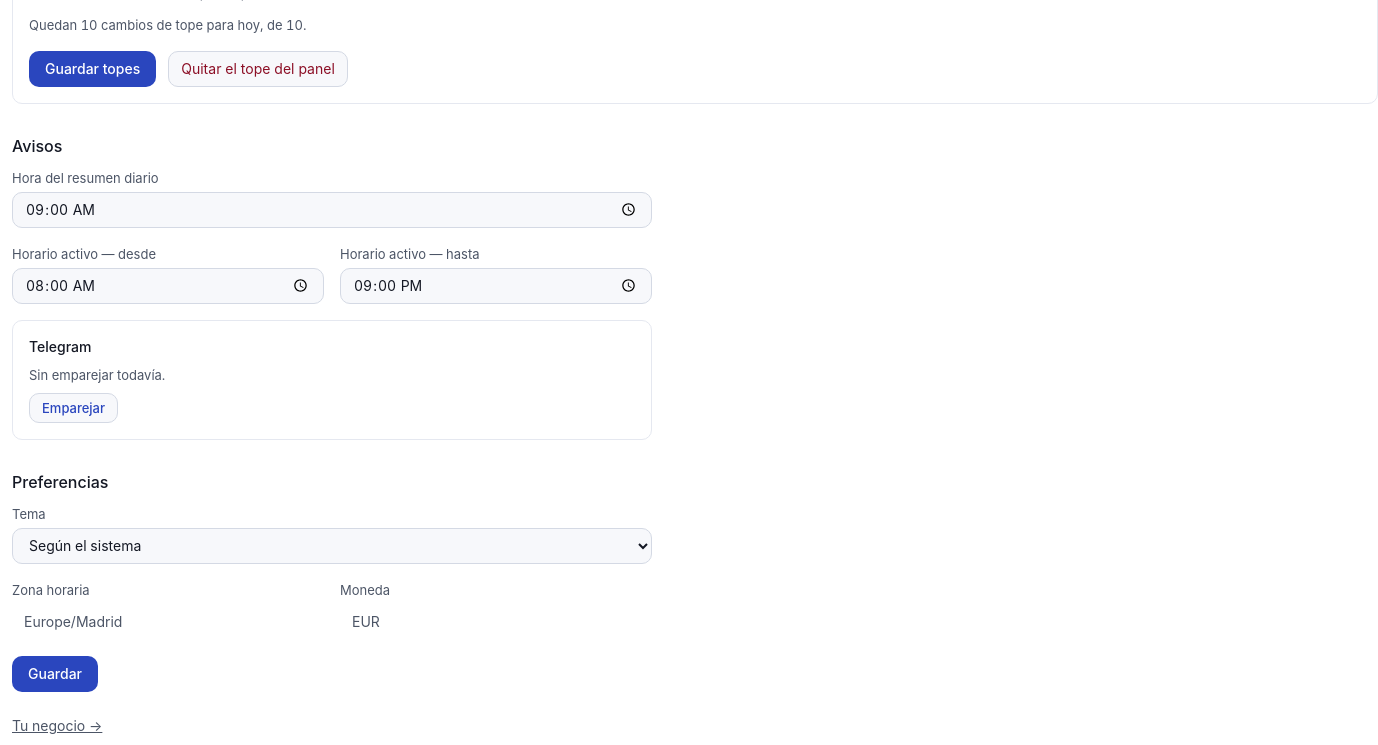
AjustesPage › guarda los cambios de tema
(page scrolled)
Select "Oscuro" in the dropdown labelled "Tema". click: (332, 546)
box: [12,528,652,564]
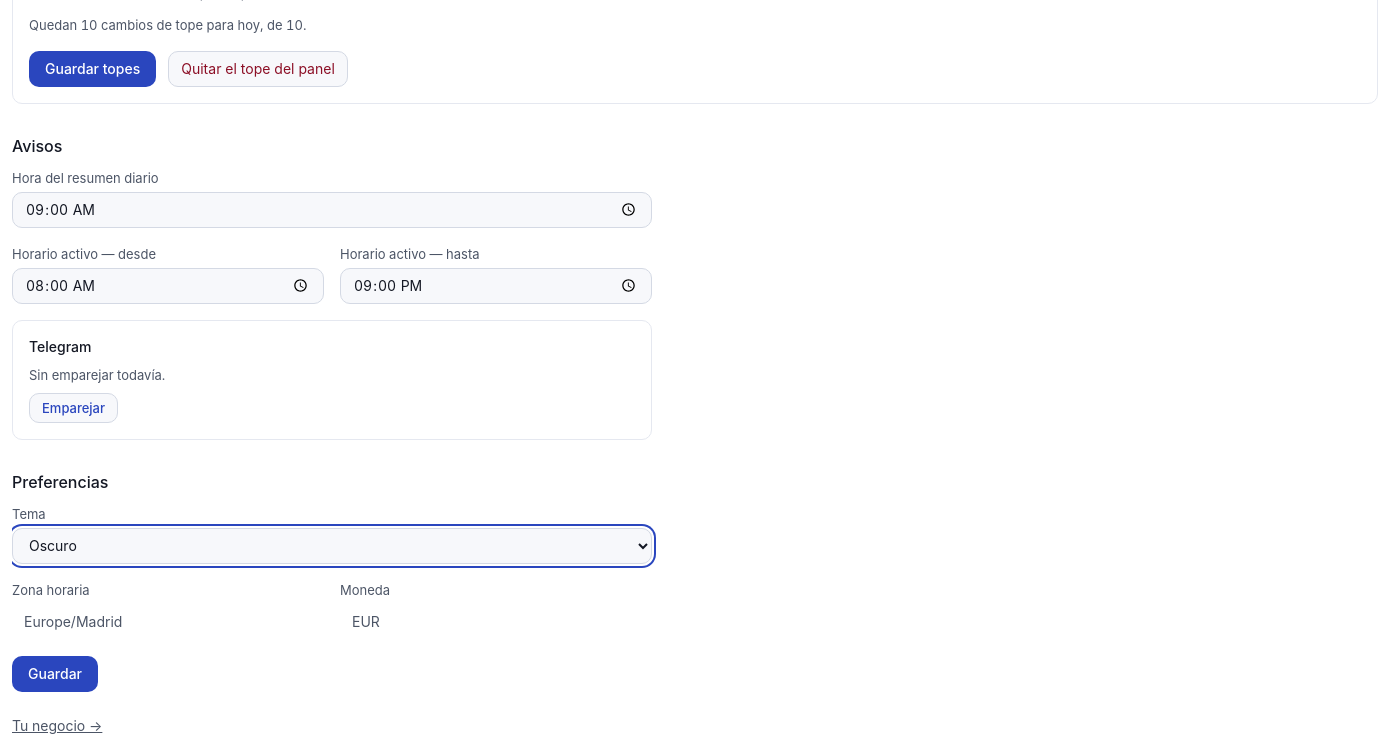
Click the button with aria-label "Guardar preferencias y avisos". click: (55, 674)
box: [12,656,98,692]
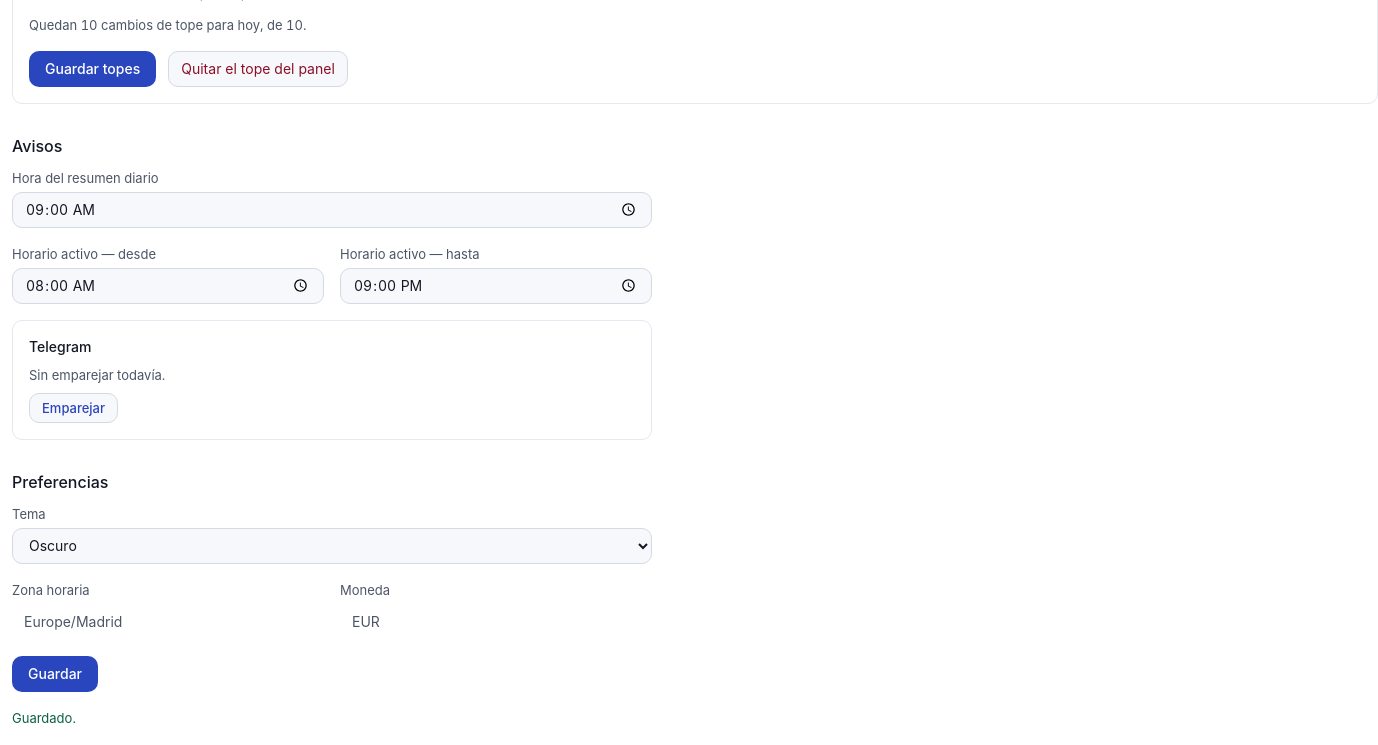
Expected: the text "Guardado." is shown, [12,710,76,726]
